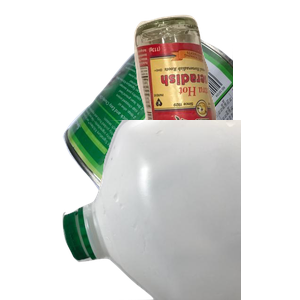glass: (131, 12, 300, 170)
metal: (60, 23, 300, 203)
plastic: (60, 120, 300, 300)
trash: (92, 158, 277, 300)
